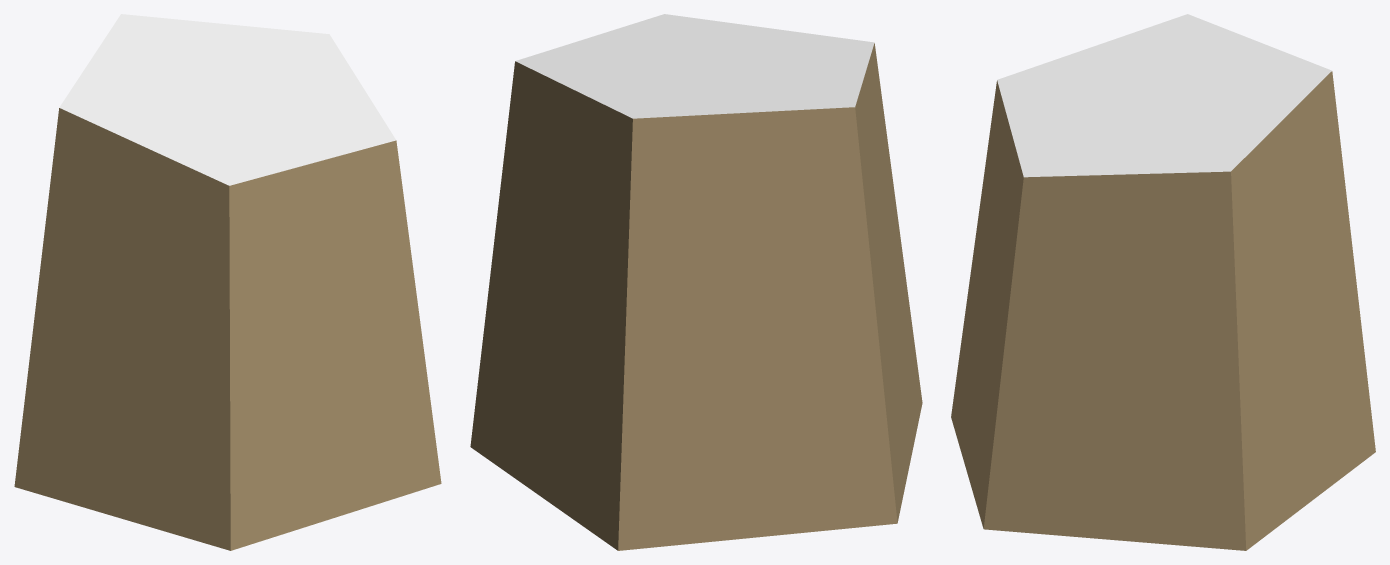
The model's file is Random_Stump_Snow_02_LOD.fbx.
3 views of the same model, side by side, from view 1: azimuth 30°, elevation 25°; view 2: azimuth 150°, elevation 25°; view 3: azimuth 270°, elevation 25° (orthographic). The views are drawn at different scales.
Parts seen in each view (by area): view 1: Random_Stump_Snow_02_LOD0; view 2: Random_Stump_Snow_02_LOD0; view 3: Random_Stump_Snow_02_LOD0.
Part boxes in pixels (box(x1,y1,x2,y2)): Random_Stump_Snow_02_LOD0: box(14, 14, 441, 550); Random_Stump_Snow_02_LOD0: box(470, 14, 922, 550); Random_Stump_Snow_02_LOD0: box(951, 14, 1375, 550).
Size of what is drawn, in the model's own units: 68.03 by 67.32 by 67.29.
